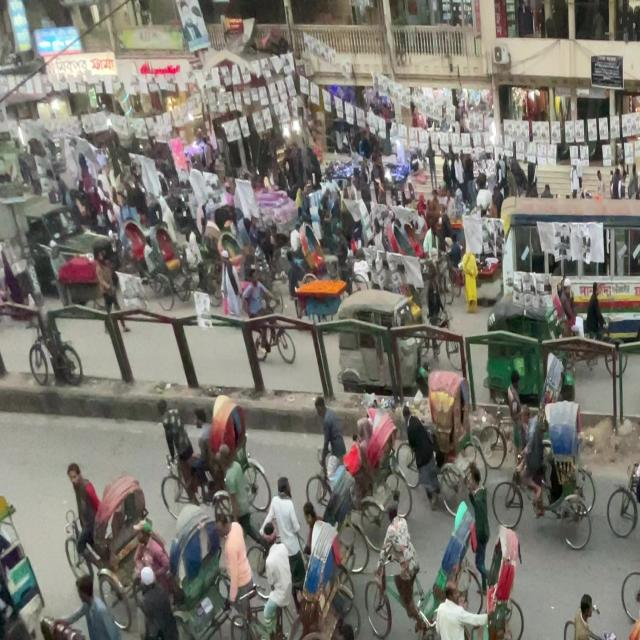bus: (494, 199, 640, 344)
car: (639, 288, 640, 430)
rickshaw: (339, 279, 432, 413)
